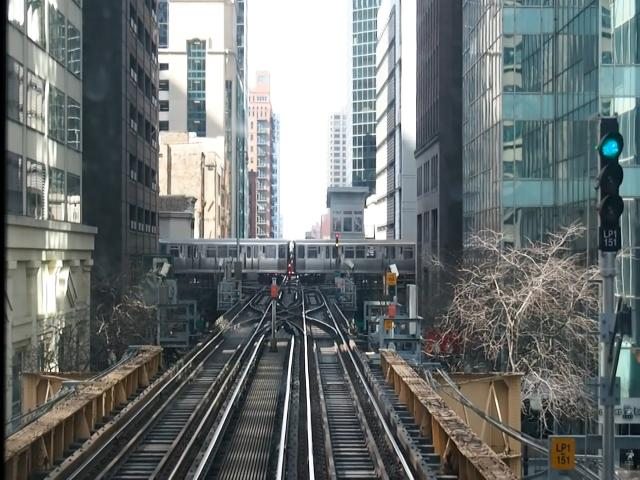signal light: (594, 115, 628, 255)
